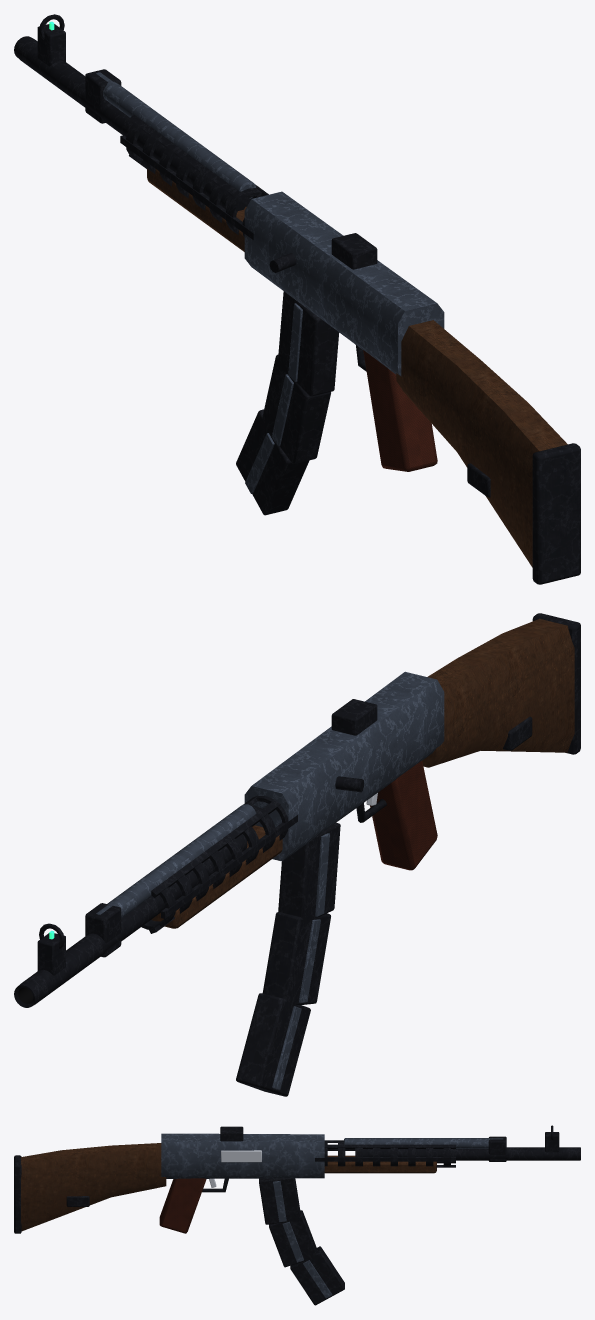
Rendered from stg44.glb.
The picture shows the model from 3 angles, top to bottom: view 1: azimuth 30°, elevation 25°; view 2: azimuth 150°, elevation 25°; view 3: azimuth 270°, elevation 25°; orthographic projection. The views are drawn at different scales.
Visible parts, largest first — view 1: Receiver, Magazine; view 2: Receiver, Magazine; view 3: Receiver, Magazine, Bolt.
Boxes of the visible parts, <box> form: Receiver: <box>14,14,580,584</box>; Magazine: <box>236,291,339,515</box>; Receiver: <box>14,613,580,1007</box>; Magazine: <box>236,822,340,1096</box>; Receiver: <box>14,1125,580,1233</box>; Magazine: <box>259,1178,344,1305</box>; Bolt: <box>221,1150,261,1162</box>.
Size of the model in its own units: 0.0663 by 0.3041 by 0.885.
7 materials, 4 textured.
